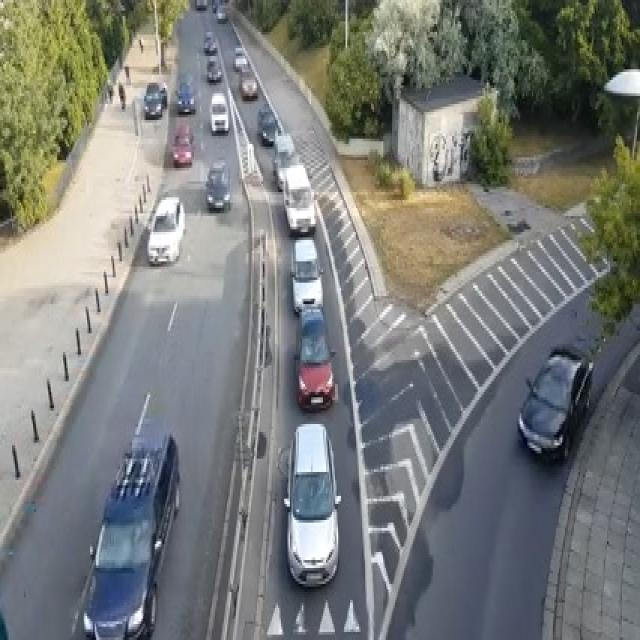bus: (81, 392, 180, 637)
car: (279, 421, 341, 587), (517, 341, 593, 464), (293, 304, 335, 411), (146, 195, 185, 264), (290, 237, 323, 315), (282, 162, 316, 235), (272, 133, 299, 190), (204, 157, 230, 211), (171, 123, 194, 165), (256, 104, 276, 144), (209, 91, 228, 133), (143, 80, 162, 117), (176, 80, 195, 112), (239, 66, 257, 98), (206, 56, 221, 83), (233, 46, 248, 70), (203, 30, 216, 54), (158, 80, 167, 107), (216, 3, 227, 21), (195, 0, 208, 8)
